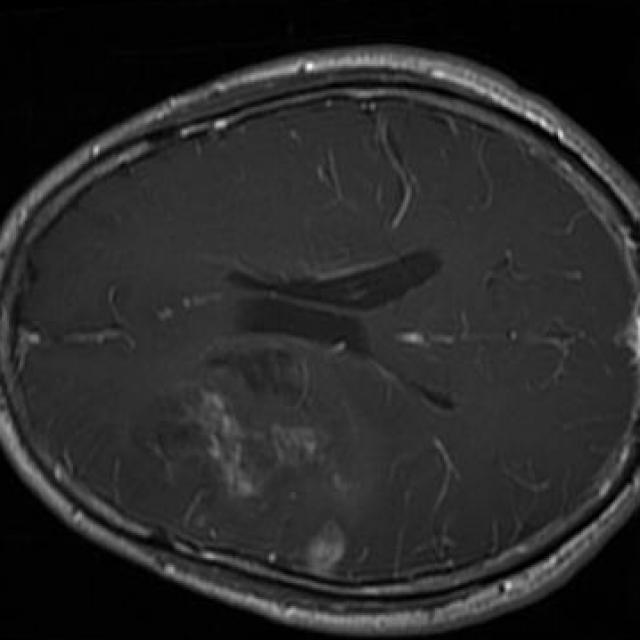glioma: (146, 348, 349, 567)
